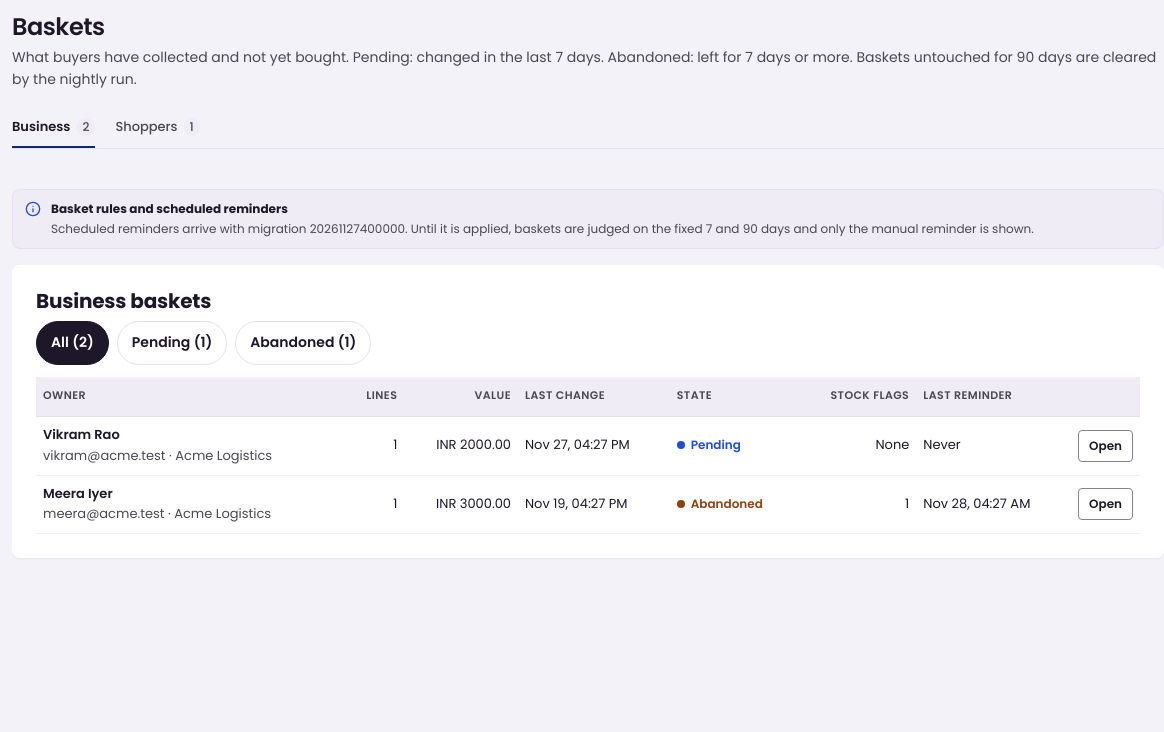
Test: OperatorBaskets › lists business baskets as Pending and Abandoned, and filters by state
Expected: the text "Pending" is shown, [677,436,741,454]
Expected: the text "vikram@acme.test · Acme Logistics" is shown, [43,446,272,465]
Click the button "Abandoned (1)": (303, 343) [235,321,371,365]
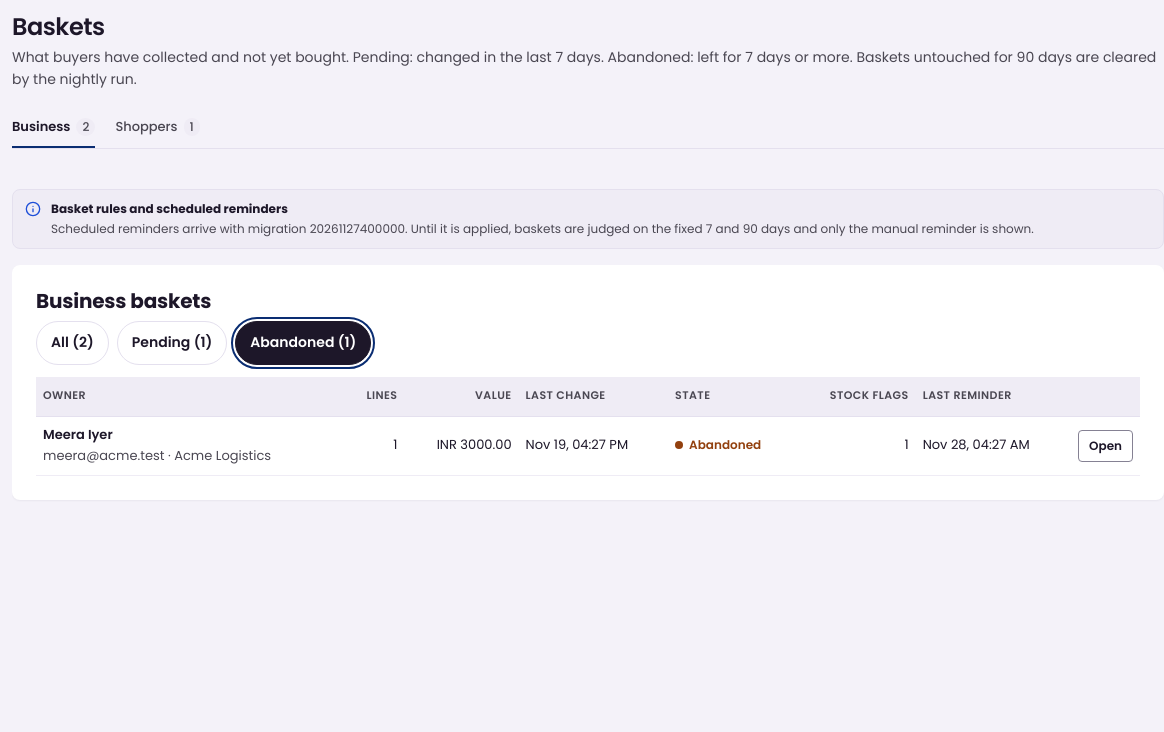
Expected: the text "Meera Iyer" is shown, [43,425,113,444]
Expected: the text "Vikram Rao" is gone
Click the tab "Shoppers 1": (158, 127) [115,107,200,148]
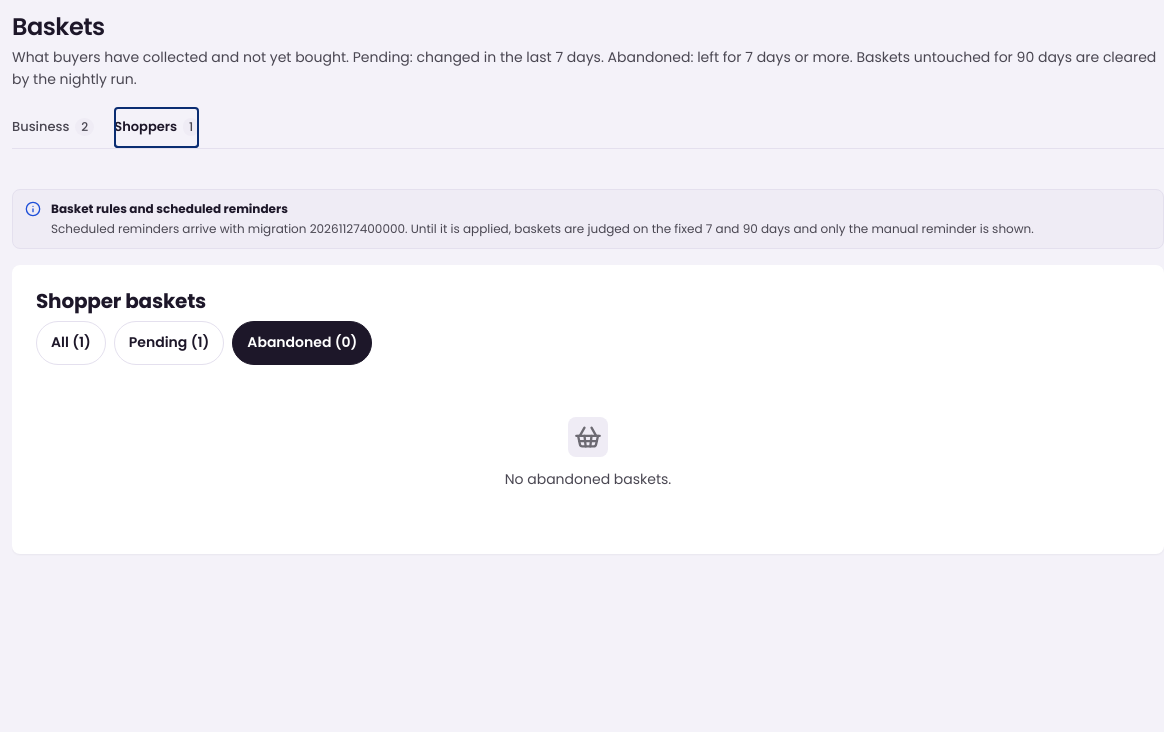
Click the button "All (1)": (71, 343) [36,321,106,365]
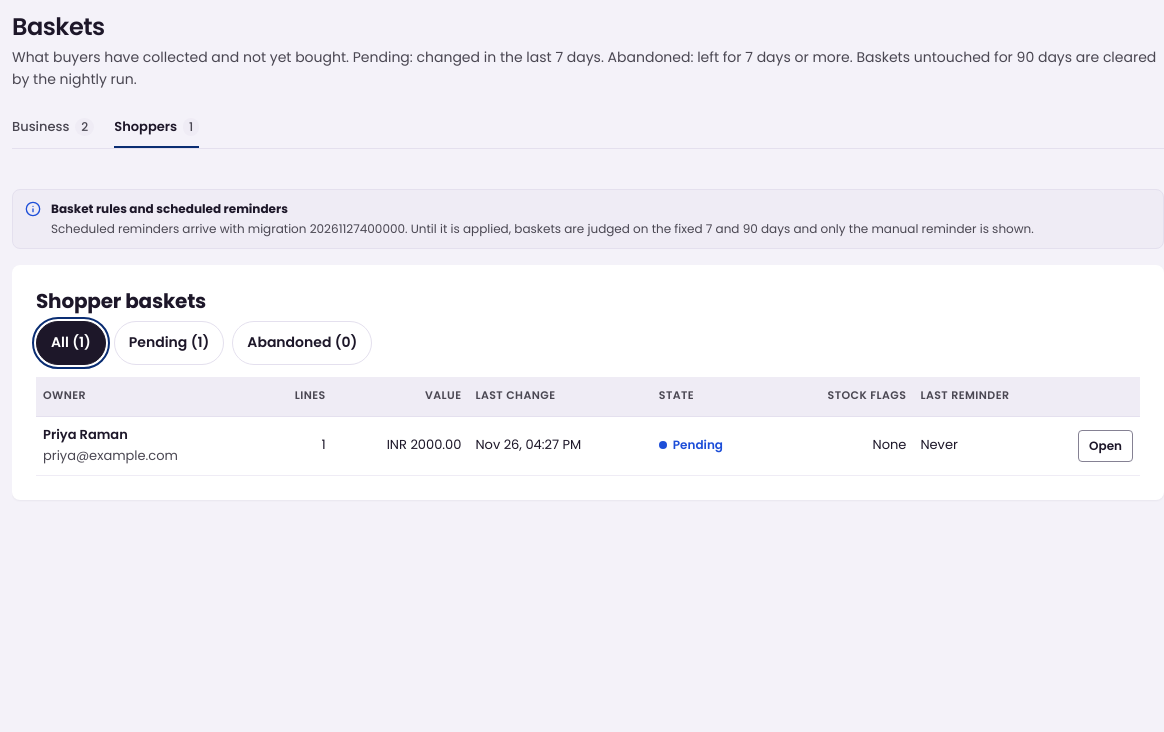
Expected: the text "Priya Raman" is shown, [43,425,128,444]
